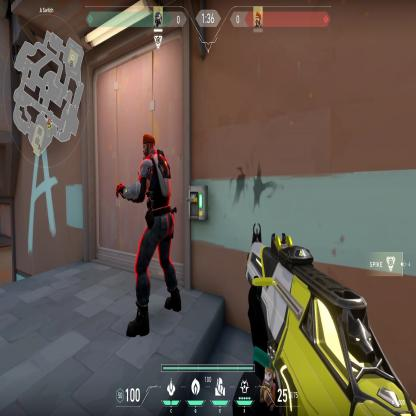enemy: (116, 132, 183, 340)
